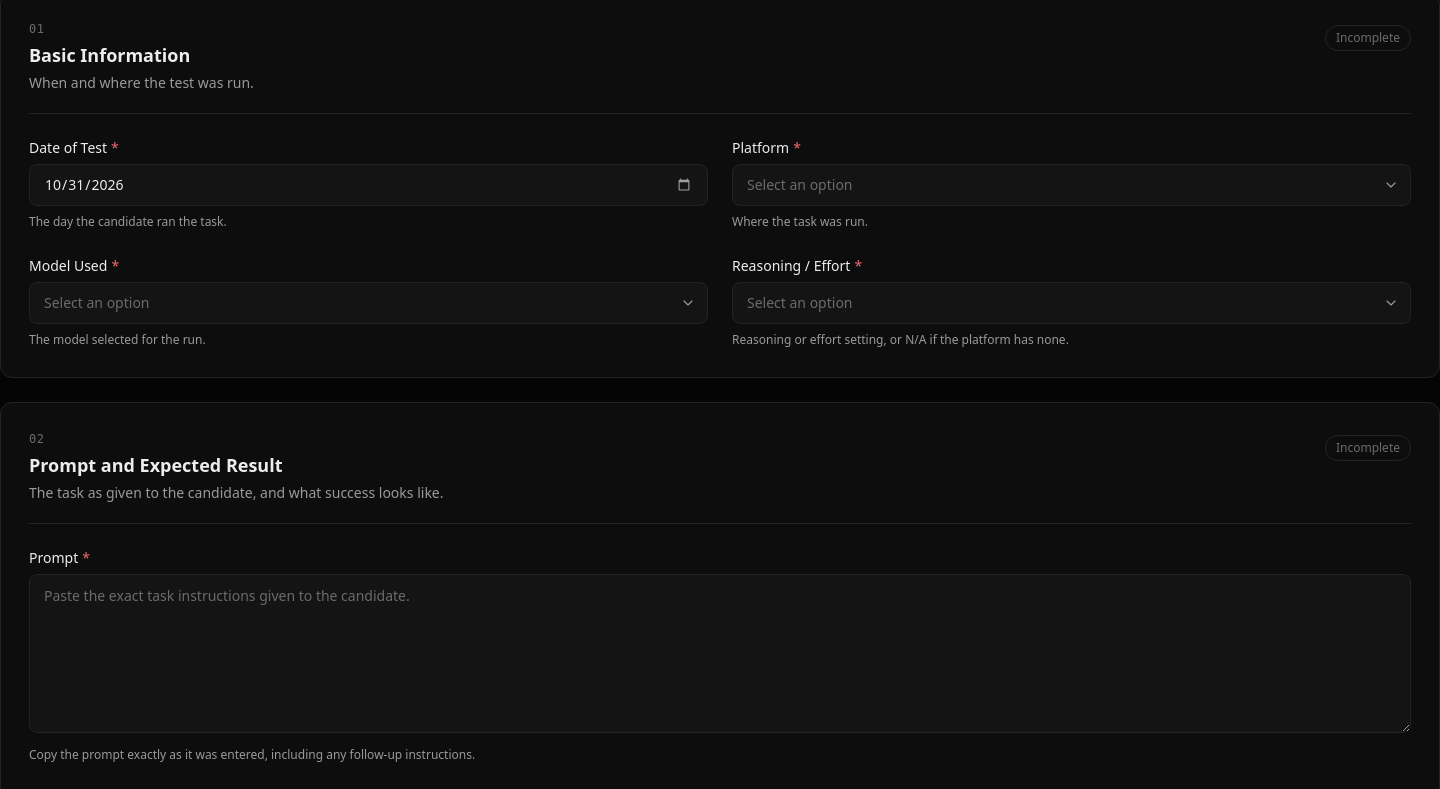
Test case: EvaluationForm › asks for confirmation before resetting a form with data
The width and height of the screenshot is (1440, 789).
Type "Some prompt" into the text box named "Prompt*" at (720, 653), box [29, 574, 1411, 732]
(page scrolled)
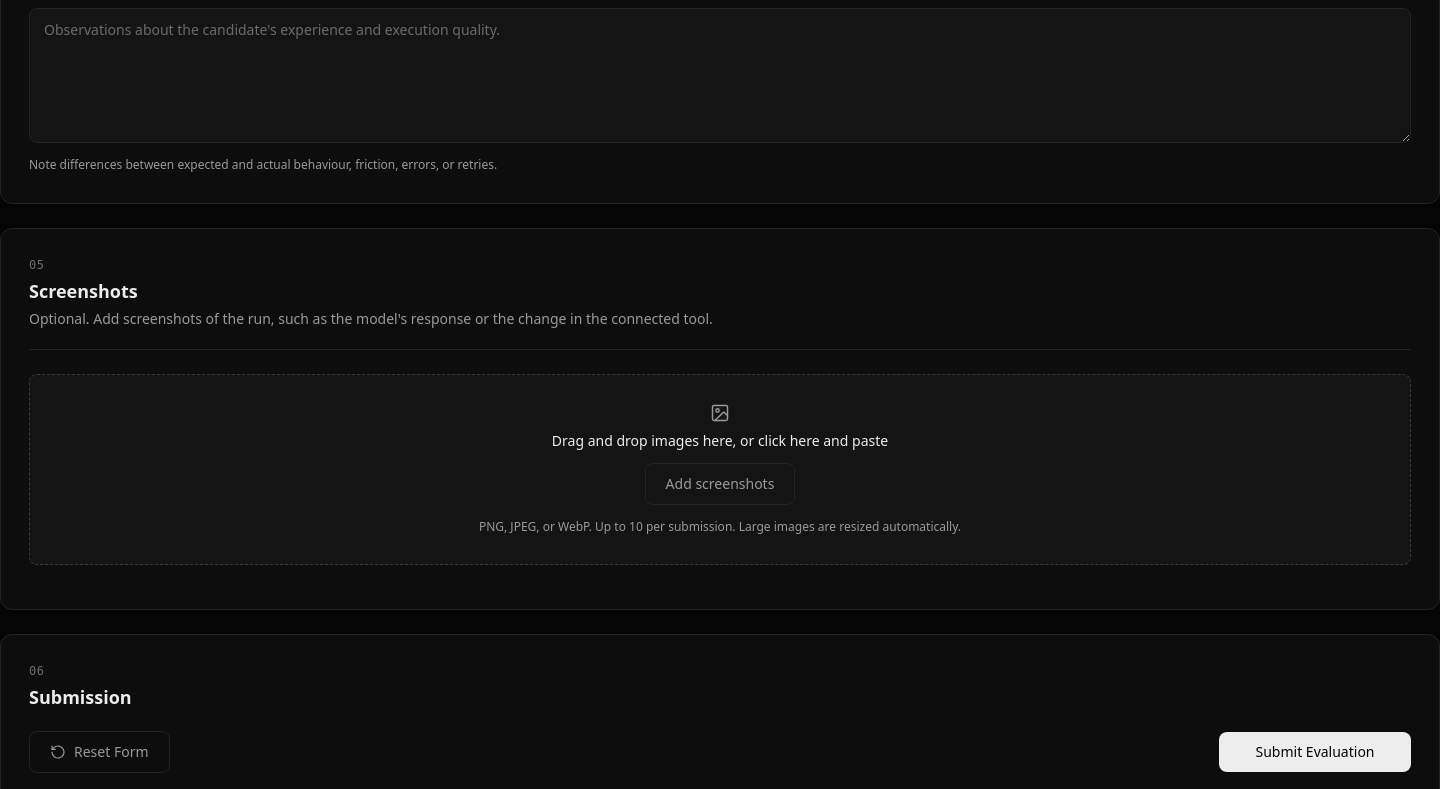
Click the button "Reset Form" at (99, 752), box [29, 731, 170, 773]
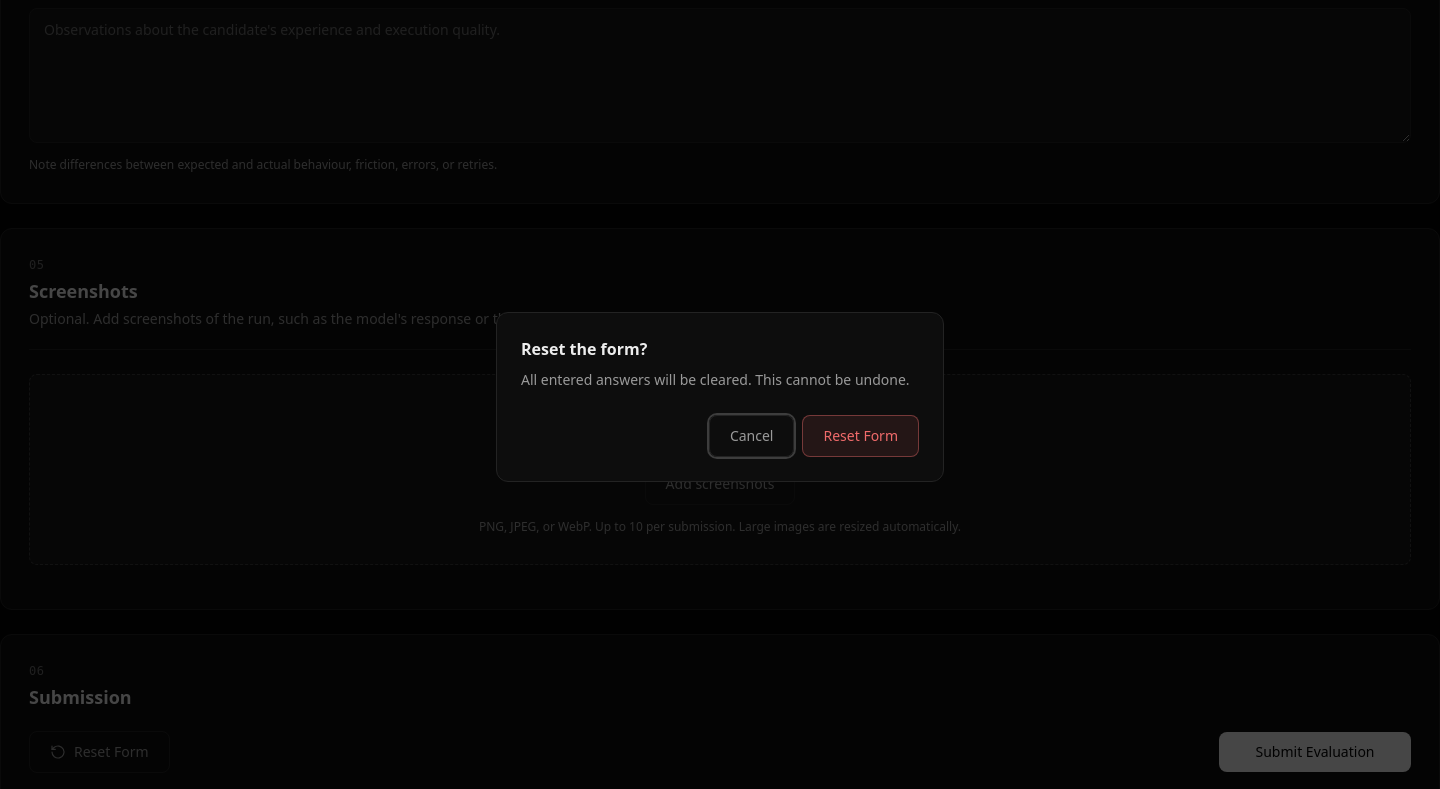
Click the button "Cancel" at (752, 436), box [709, 415, 794, 457]
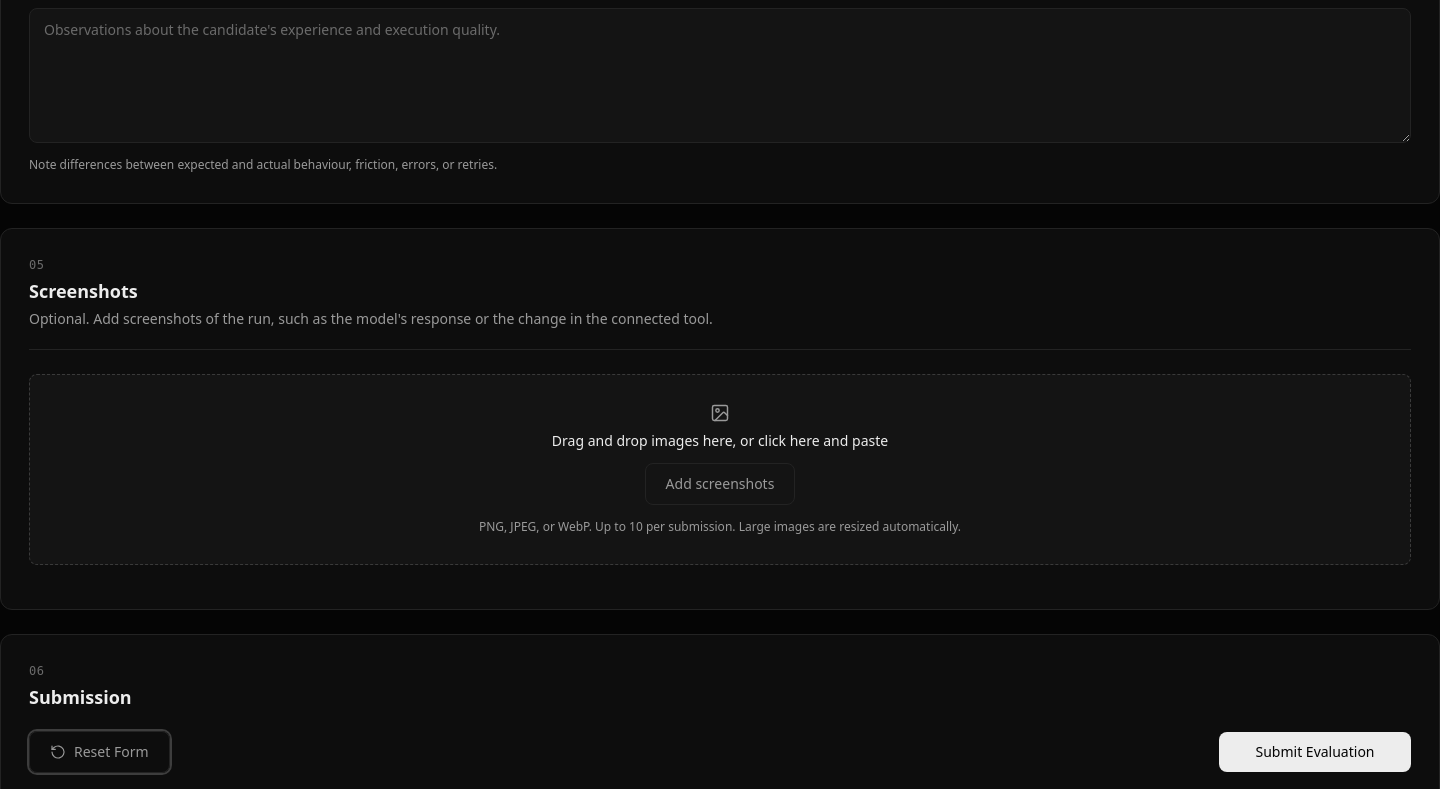
Click the button "Reset Form" at (99, 752), box [29, 731, 170, 773]
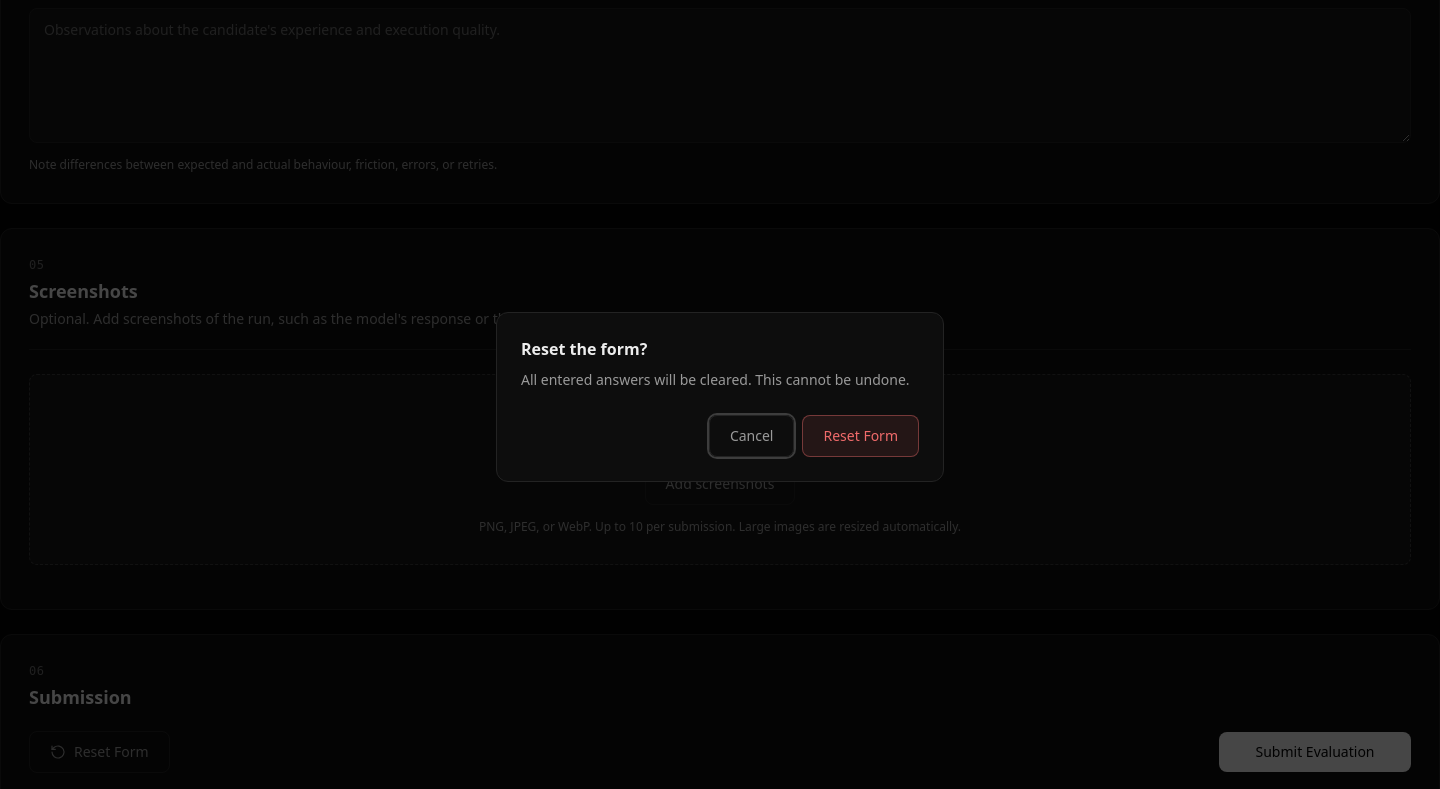
Click the button "Reset Form" at (861, 436), box [802, 415, 919, 457]
(page scrolled)
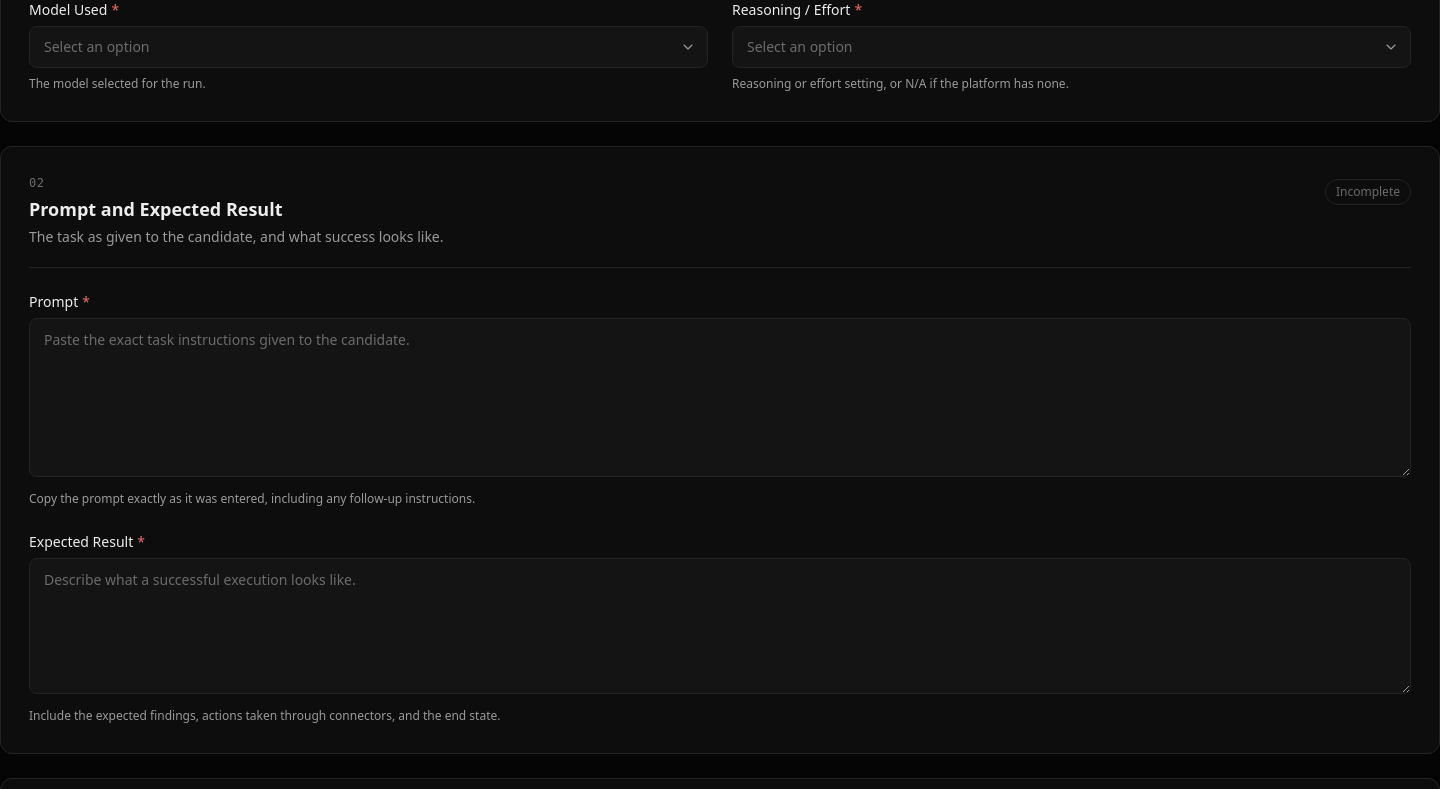
Expected: the text box named "Prompt*" is empty, [29, 318, 1411, 476]
Expected: the dialog is gone
